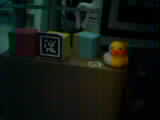duck: (102, 34, 145, 71)
